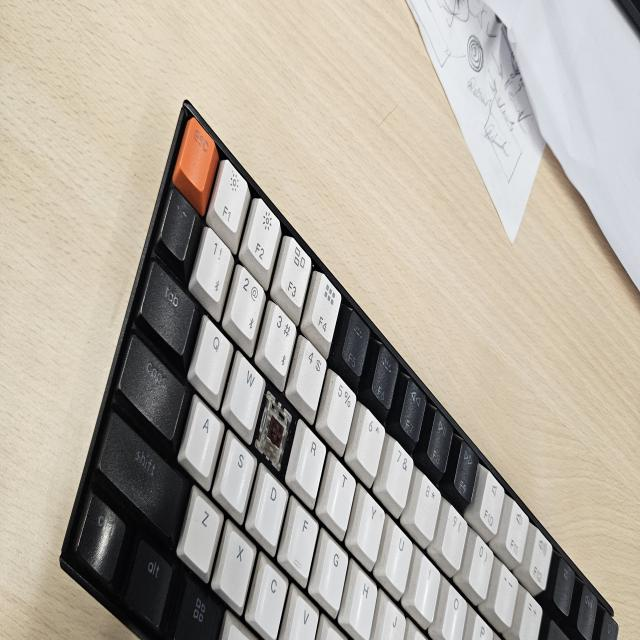C: (261, 395, 292, 466)
